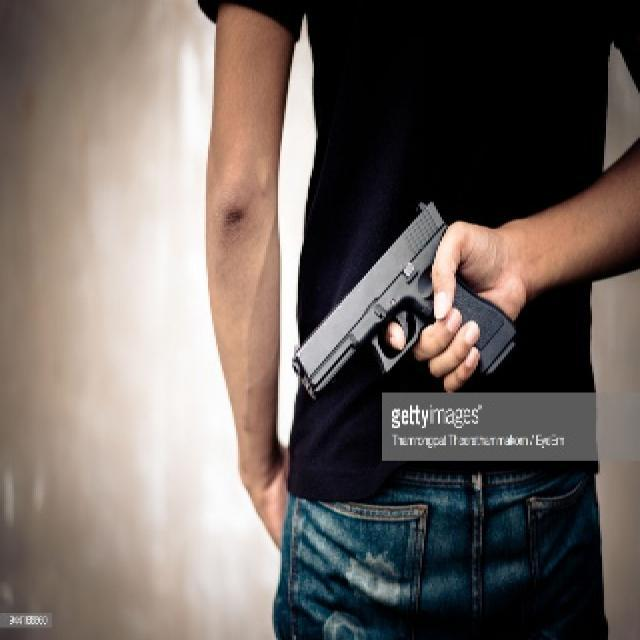weapon: (284, 189, 516, 393)
